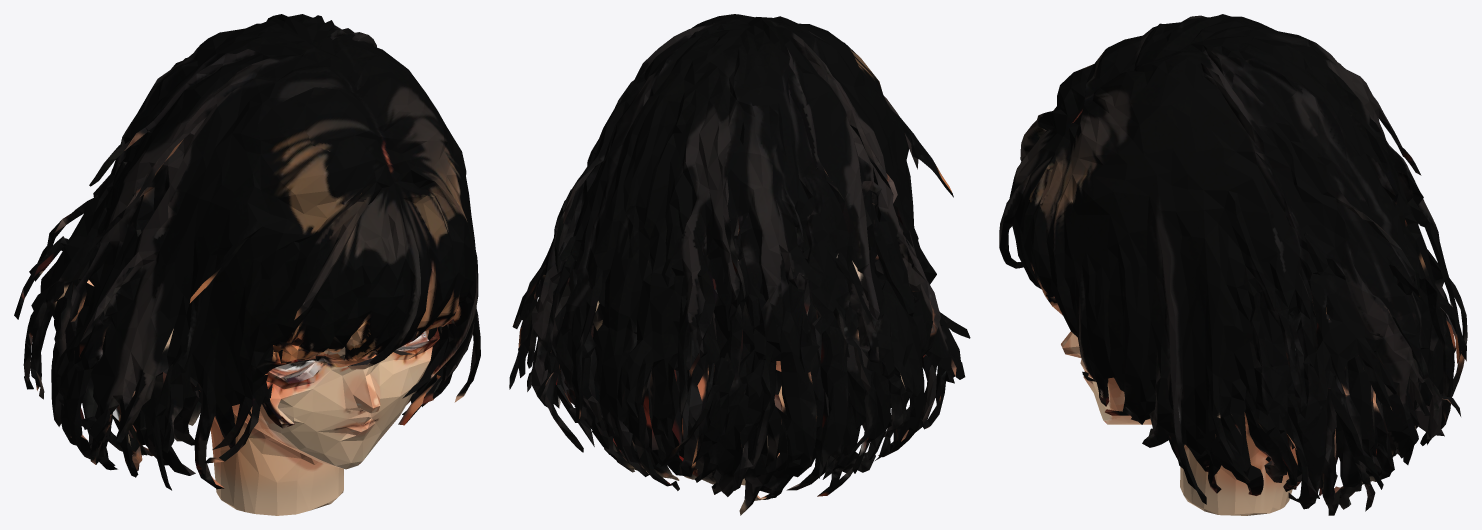
Rendered from side_h_agasha_repaired_atlas.glb.
3 views of the same model, side by side, from view 1: azimuth 30°, elevation 25°; view 2: azimuth 150°, elevation 25°; view 3: azimuth 270°, elevation 25° (orthographic). The views are drawn at different scales.
Visible parts, largest first — view 1: temp_mesh.ply; view 2: temp_mesh.ply; view 3: temp_mesh.ply.
Boxes of the visible parts, x1,y1,x2,y2 form: temp_mesh.ply: [14, 14, 480, 515]; temp_mesh.ply: [509, 14, 970, 515]; temp_mesh.ply: [999, 14, 1467, 515].
Size of the model in its own units: 1.26 by 1.33 by 1.22.
Materials: 1 (1 with a texture image).
